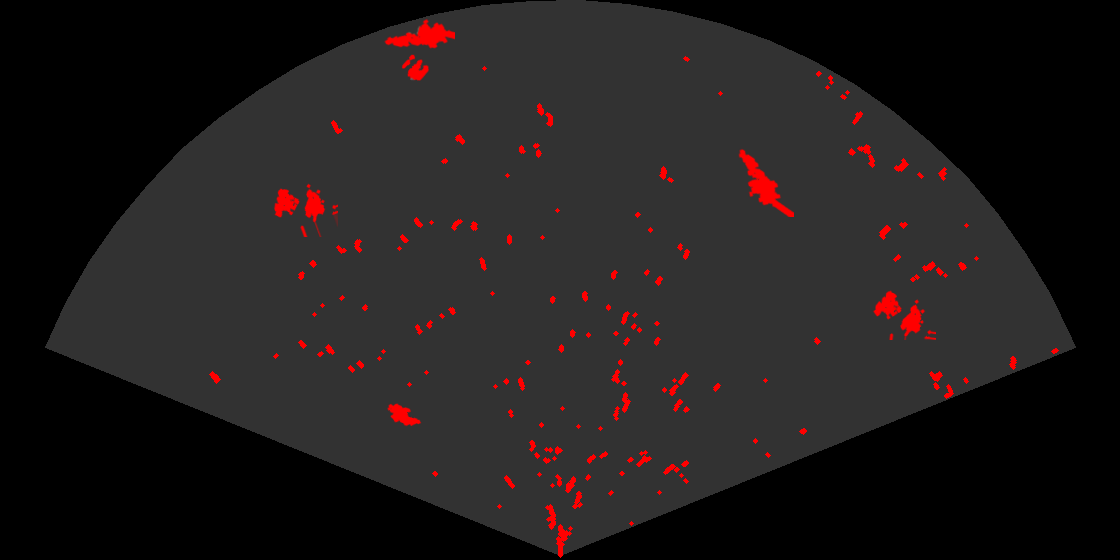AUV: (386, 402, 423, 428)
ball: (400, 53, 430, 82)
cage: (272, 182, 338, 237), (871, 289, 936, 340)
frogman: (737, 147, 794, 217), (382, 17, 455, 50)
